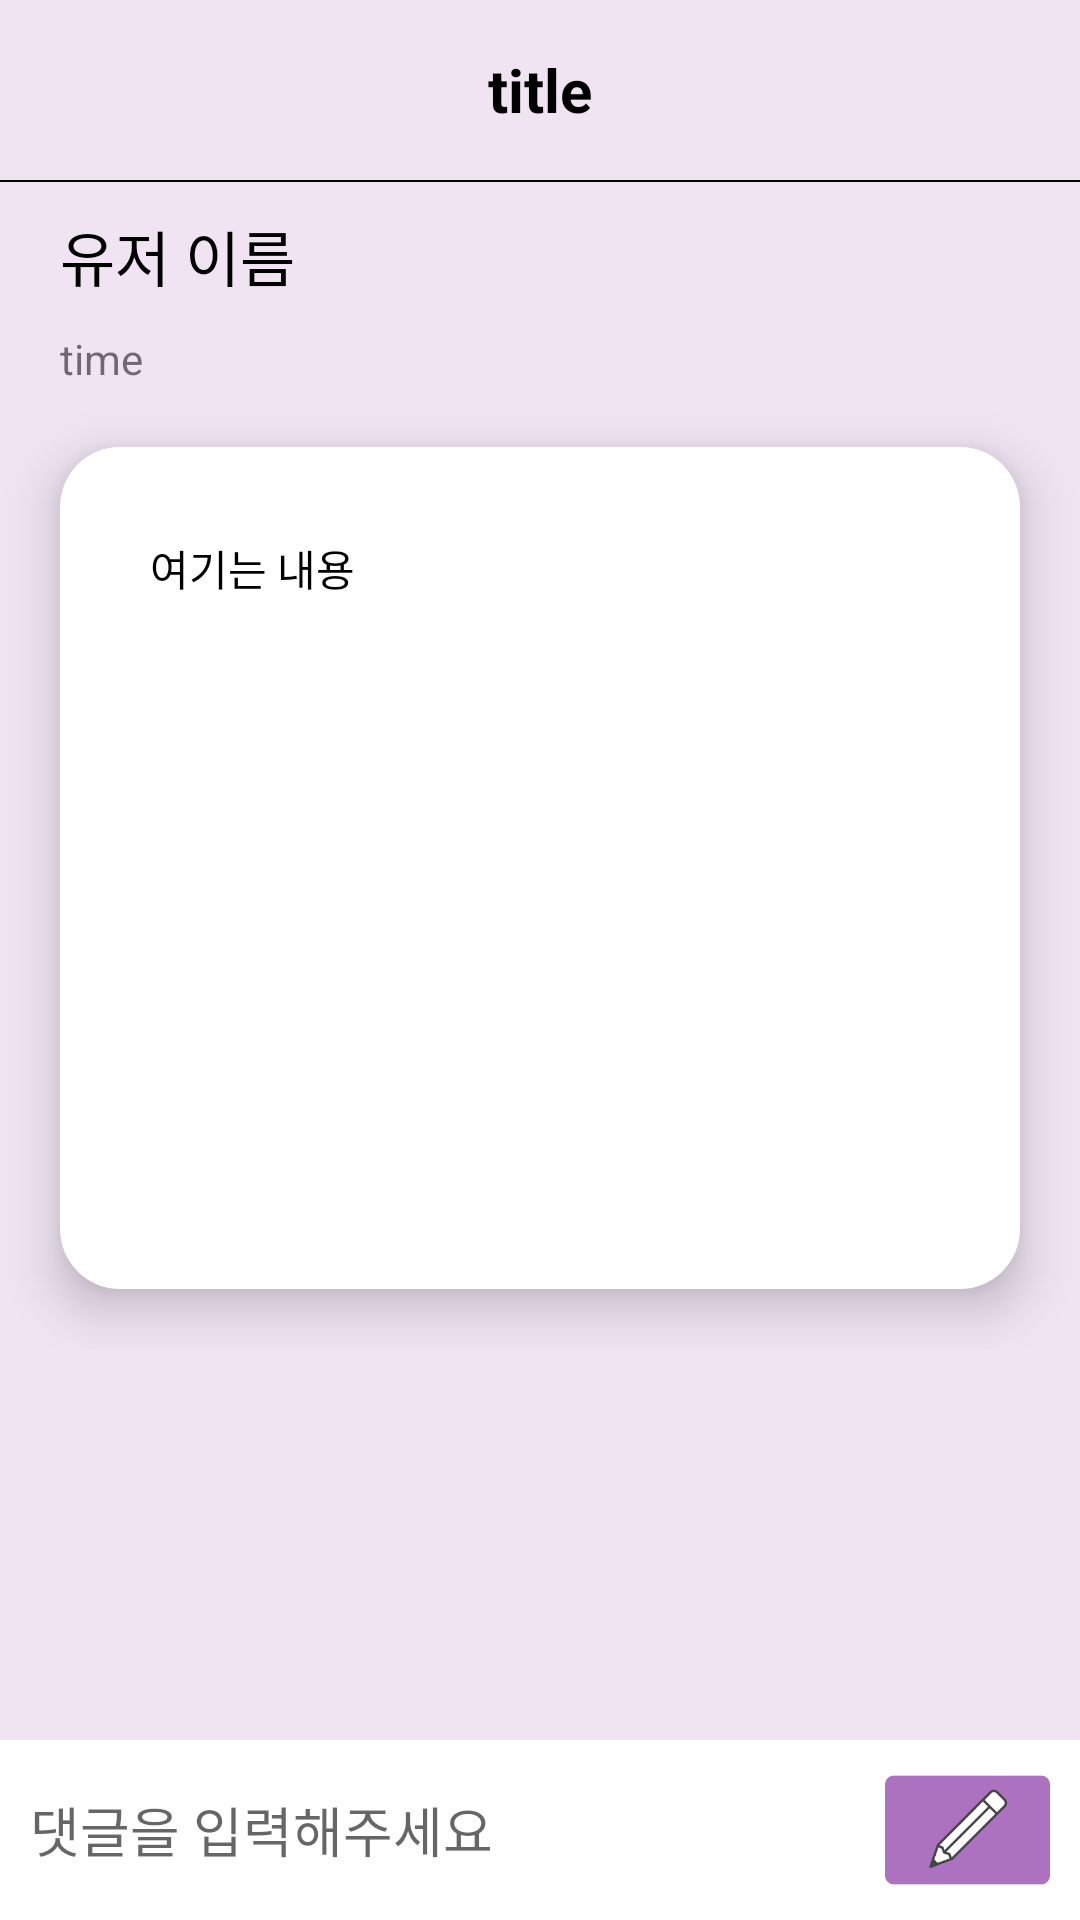

Named icons in this screenshot (1080px×1920px) and their bounding boxes, box(x1, y1, x2, y2):
comment write: box(885, 1775, 1050, 1885)
